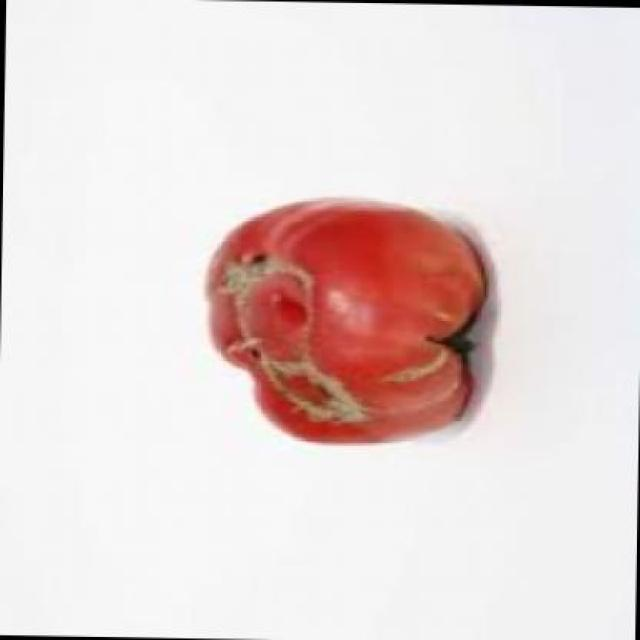overripe tomato: (192, 185, 494, 462)
